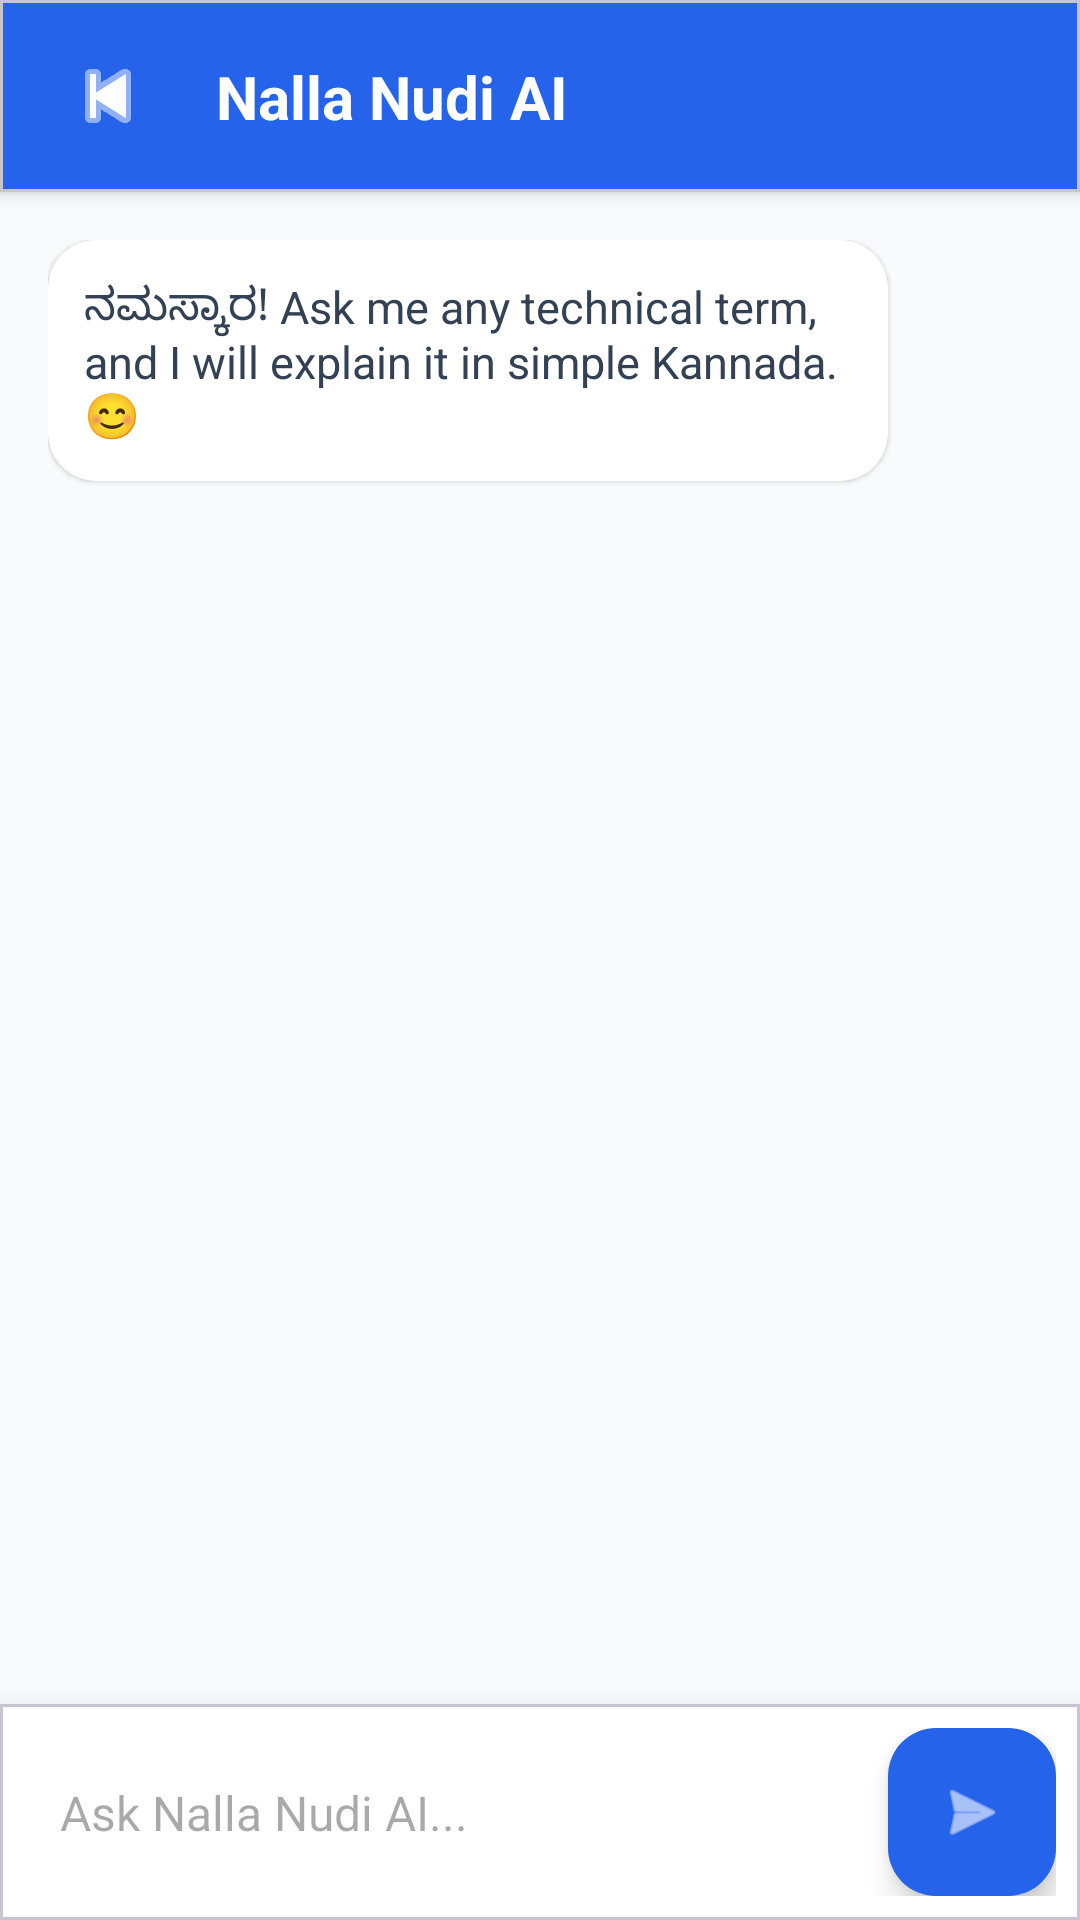

Where to tap for icons on this 1080*1920 app screen, as [x,y]:
Back: [108,96]
Send: [972,1812]
